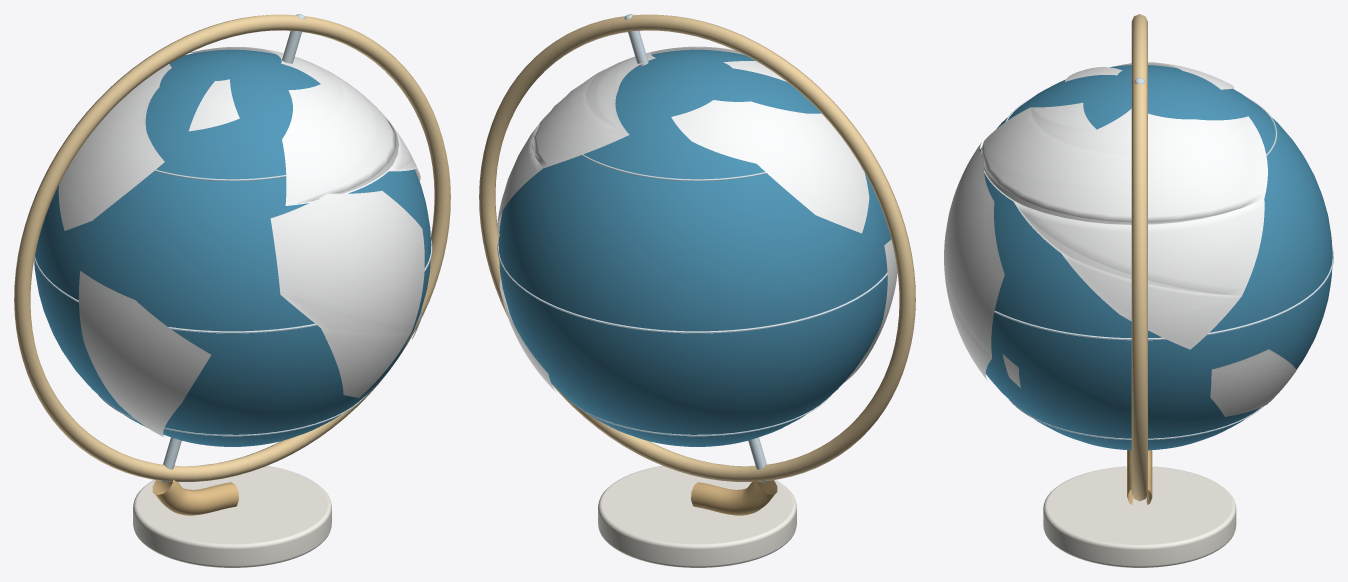
Rendered from atlas.glb.
3 views of the same model, side by side, from view 1: azimuth 30°, elevation 25°; view 2: azimuth 150°, elevation 25°; view 3: azimuth 270°, elevation 25° (orthographic). The views are drawn at different scales.
Parts seen in each view (by area): view 1: atlas_Sanctuary_AzureEnamel, atlas_Sanctuary_Porcelain, atlas_Sanctuary_PolishedGold, atlas_Sanctuary_PearlCeramic, atlas_Sanctuary_Silver, atlas_Sanctuary_ChampagneBrass; view 2: atlas_Sanctuary_AzureEnamel, atlas_Sanctuary_Porcelain, atlas_Sanctuary_PolishedGold, atlas_Sanctuary_PearlCeramic, atlas_Sanctuary_Silver, atlas_Sanctuary_ChampagneBrass; view 3: atlas_Sanctuary_Porcelain, atlas_Sanctuary_AzureEnamel, atlas_Sanctuary_PearlCeramic, atlas_Sanctuary_PolishedGold, atlas_Sanctuary_Silver, atlas_Sanctuary_ChampagneBrass.
Part boxes in pixels (bbox=[...]): atlas_Sanctuary_AzureEnamel: bbox=[34, 49, 431, 446]; atlas_Sanctuary_Porcelain: bbox=[58, 46, 424, 436]; atlas_Sanctuary_PolishedGold: bbox=[14, 14, 450, 481]; atlas_Sanctuary_PearlCeramic: bbox=[133, 464, 331, 567]; atlas_Sanctuary_Silver: bbox=[34, 14, 432, 482]; atlas_Sanctuary_ChampagneBrass: bbox=[152, 479, 238, 515]; atlas_Sanctuary_AzureEnamel: bbox=[498, 49, 890, 446]; atlas_Sanctuary_Porcelain: bbox=[497, 46, 897, 392]; atlas_Sanctuary_PolishedGold: bbox=[479, 14, 915, 481]; atlas_Sanctuary_PearlCeramic: bbox=[598, 464, 796, 567]; atlas_Sanctuary_Silver: bbox=[497, 14, 887, 482]; atlas_Sanctuary_ChampagneBrass: bbox=[691, 479, 777, 515]; atlas_Sanctuary_Porcelain: bbox=[944, 62, 1296, 416]; atlas_Sanctuary_AzureEnamel: bbox=[980, 65, 1332, 450]; atlas_Sanctuary_PearlCeramic: bbox=[1043, 466, 1236, 567]; atlas_Sanctuary_PolishedGold: bbox=[1131, 14, 1147, 501]; atlas_Sanctuary_Silver: bbox=[994, 78, 1333, 439]; atlas_Sanctuary_ChampagneBrass: bbox=[1127, 450, 1152, 504].
Size of the model in its own units: 2.12 by 2.36 by 1.7.
